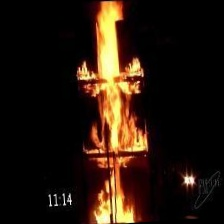fire: (60, 0, 168, 224)
